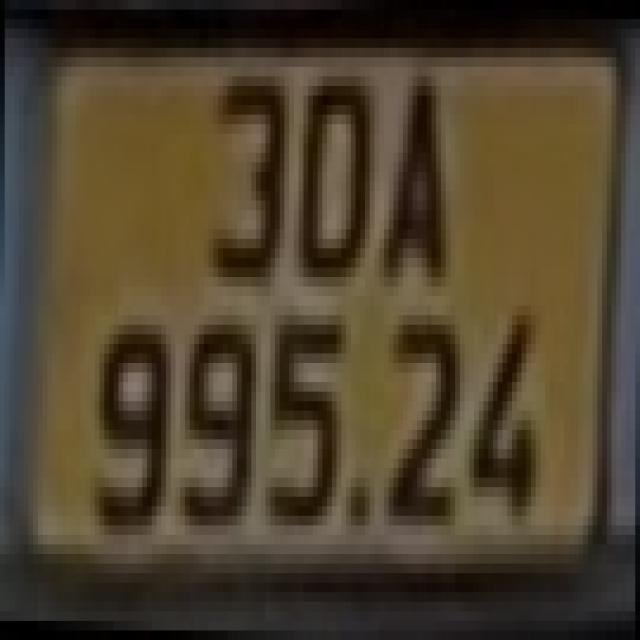2: (384, 306, 460, 525)
3: (209, 67, 289, 277)
4: (470, 301, 540, 530)
5: (266, 306, 346, 525)
9: (92, 315, 168, 535), (182, 311, 254, 530)
A: (382, 67, 452, 286)
D: (296, 71, 372, 282)
